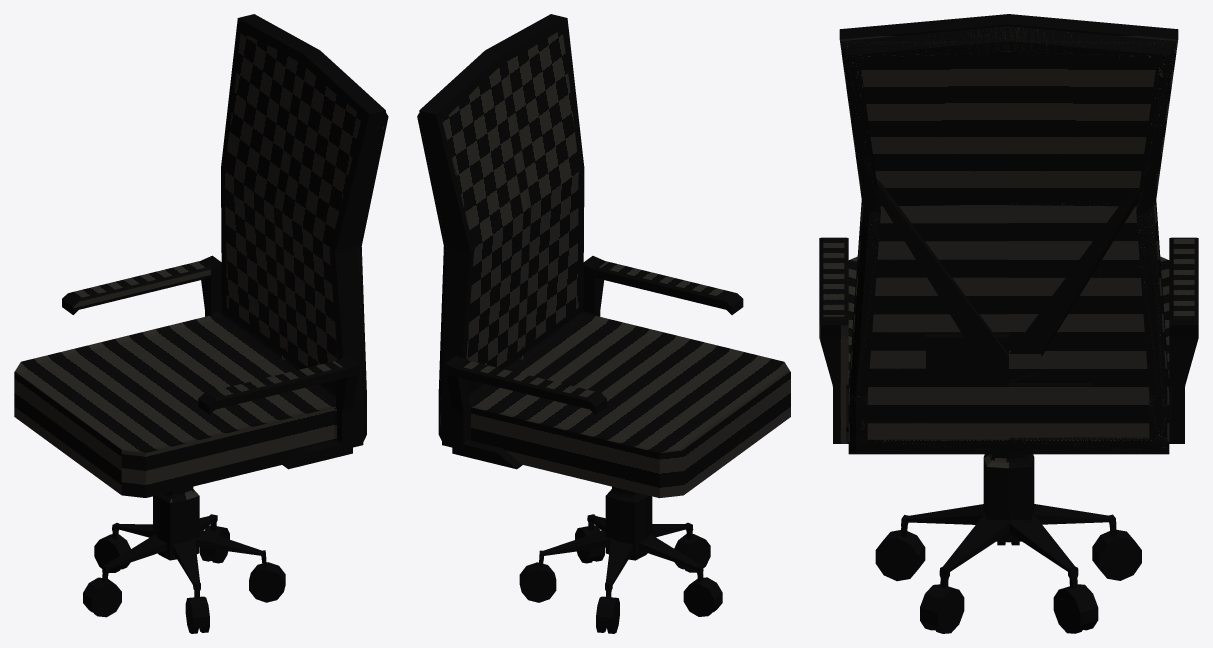
The model's file is chair.glb.
The picture shows the model from 3 angles, left to right: view 1: azimuth 30°, elevation 25°; view 2: azimuth 150°, elevation 25°; view 3: azimuth 270°, elevation 25°; orthographic projection. The views are drawn at different scales.
Parts seen in each view (by area): view 1: Chair.001, Chair, Wheel, Outline; view 2: Chair.001, Chair, Wheel, Outline; view 3: Chair.001, Chair, Outline, Brace.
Part boxes in pixels (x1=…): Chair.001: x1=14, y1=14, x2=385, y2=560; Chair: x1=15, y1=15, x2=387, y2=633; Wheel: x1=83, y1=534, x2=166, y2=617; Outline: x1=358, y1=112, x2=388, y2=405; Chair.001: x1=419, y1=14, x2=790, y2=560; Chair: x1=419, y1=15, x2=789, y2=633; Wheel: x1=639, y1=534, x2=722, y2=616; Outline: x1=417, y1=112, x2=447, y2=440; Chair.001: x1=819, y1=14, x2=1198, y2=542; Chair: x1=821, y1=18, x2=1196, y2=633; Outline: x1=841, y1=26, x2=1176, y2=452; Brace: x1=876, y1=179, x2=1008, y2=386.
Bounding box in the file's own units: 2.38 × 4.51 × 2.37.
3 materials, 2 textured.
